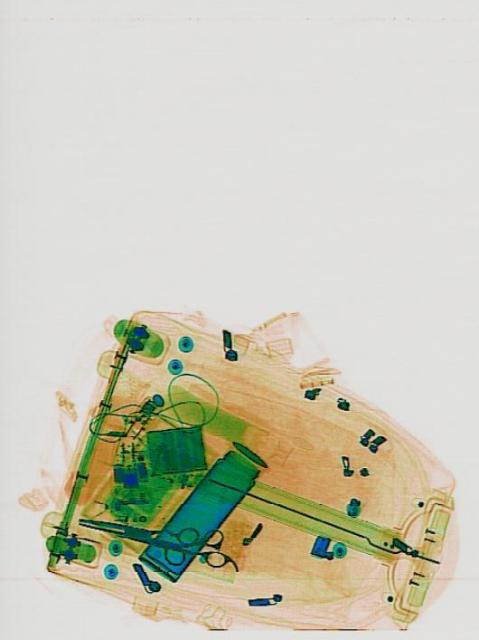Scissors: (78, 496, 199, 570), (124, 515, 228, 567)
